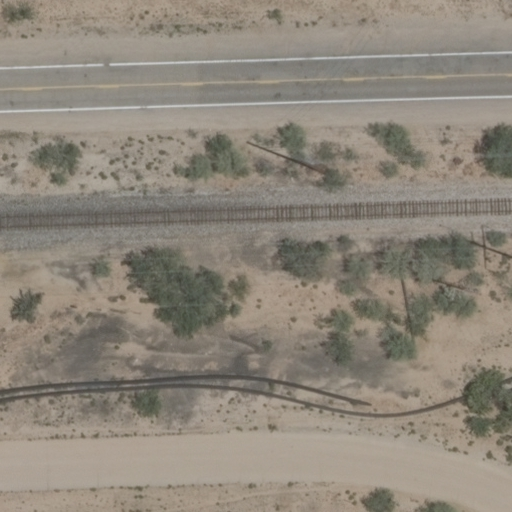DT: (247, 142, 323, 171), (466, 235, 512, 263)
